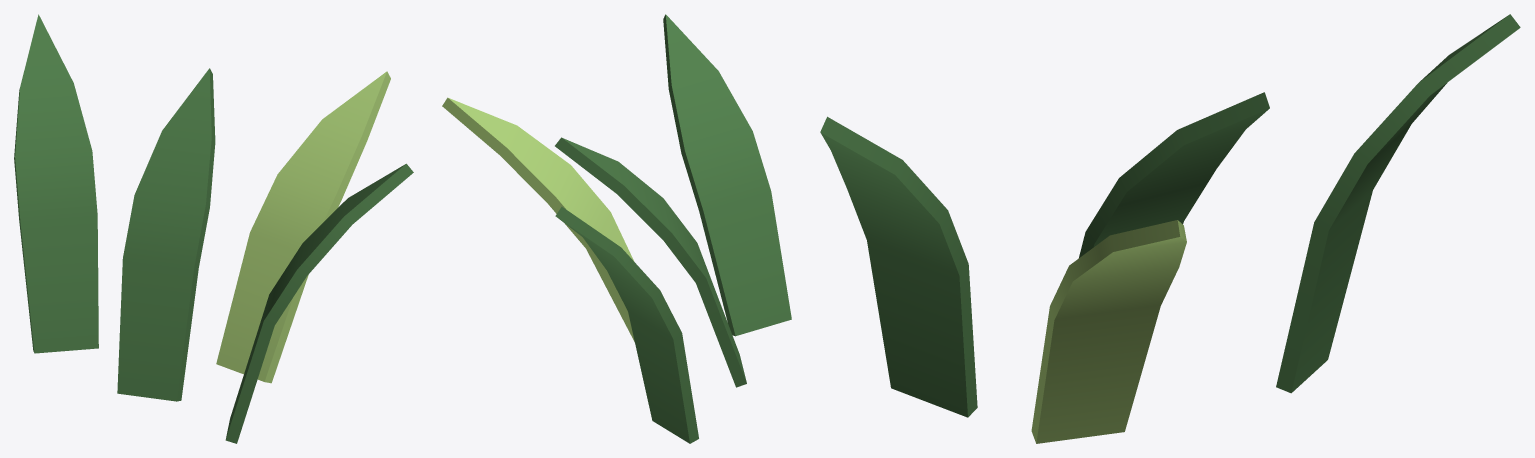
The model's file is Herbe_07.fbx.
3 renders of one model, left to right at view 1: azimuth 30°, elevation 25°; view 2: azimuth 150°, elevation 25°; view 3: azimuth 270°, elevation 25°, orthographic. The views are drawn at different scales.
Visible parts, largest first — view 1: Herbe_07; view 2: Herbe_07; view 3: Herbe_07.
Boxes of the visible parts, x1=… form: Herbe_07: x1=14, y1=14, x2=413, y2=443; Herbe_07: x1=442, y1=14, x2=791, y2=443; Herbe_07: x1=820, y1=14, x2=1520, y2=443.
Size of the model in its own units: 36.12 by 30.44 by 49.05.
Materials: 1 (1 with a texture image).
